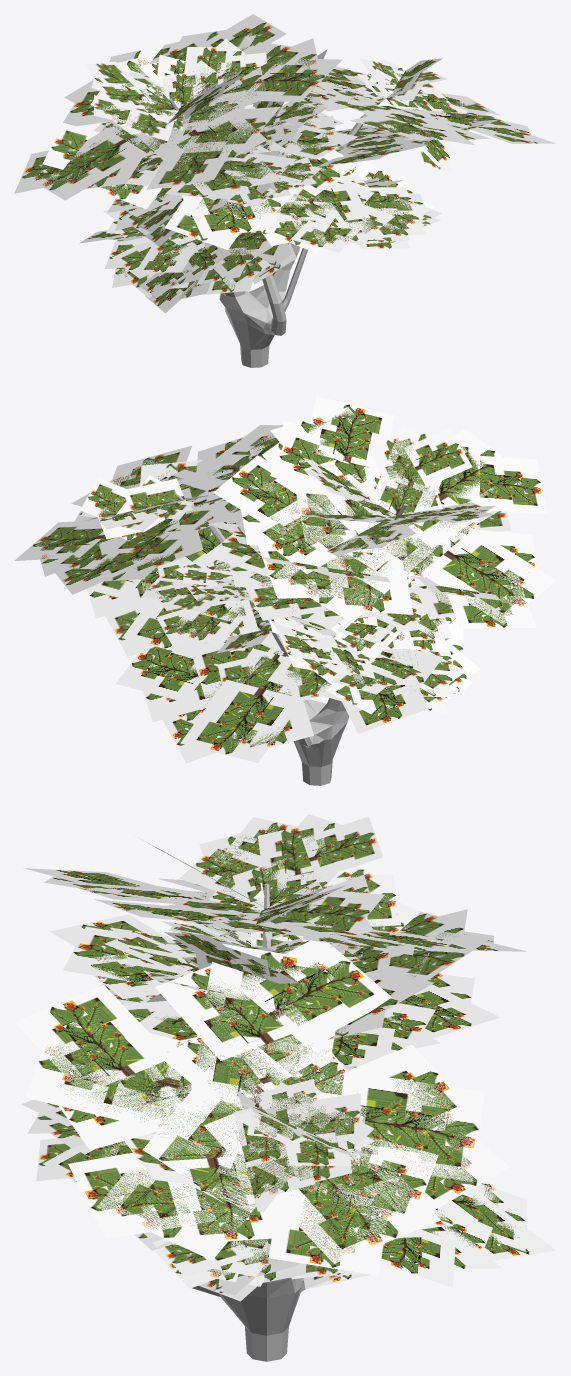
The model's file is ARIZA_vINTEGRACION.fbx.
3 renders of one model, top to bottom at view 1: azimuth 30°, elevation 25°; view 2: azimuth 150°, elevation 25°; view 3: azimuth 270°, elevation 25°, orthographic. The views are drawn at different scales.
Parts seen in each view (by area): view 1: ariza_LOD0; view 2: ariza_LOD0; view 3: ariza_LOD0.
Part boxes in pixels (<box>): ariza_LOD0: <box>14,14,555,367</box>; ariza_LOD0: <box>14,396,556,785</box>; ariza_LOD0: <box>14,814,556,1361</box>.
Size of what is drawn, in the model's own units: 7.19 by 4.65 by 4.89.
